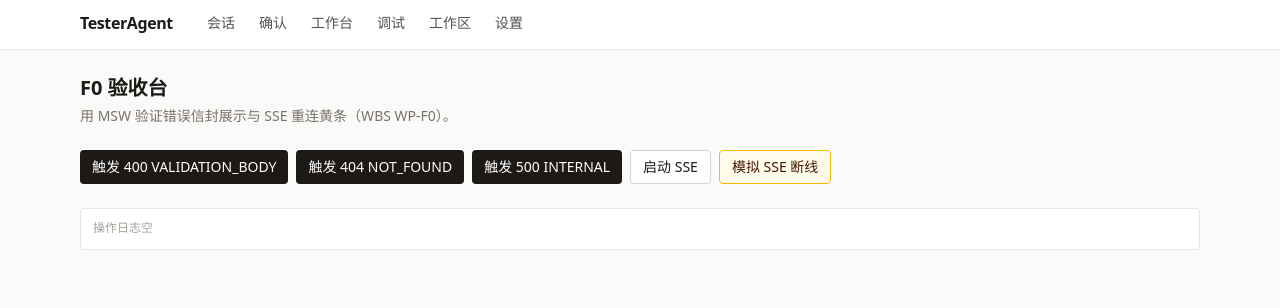
Test: F0 acceptance UI › shows error code in banner after 400
Click the button with test id "btn-400": (184, 167) [80,150,288,184]
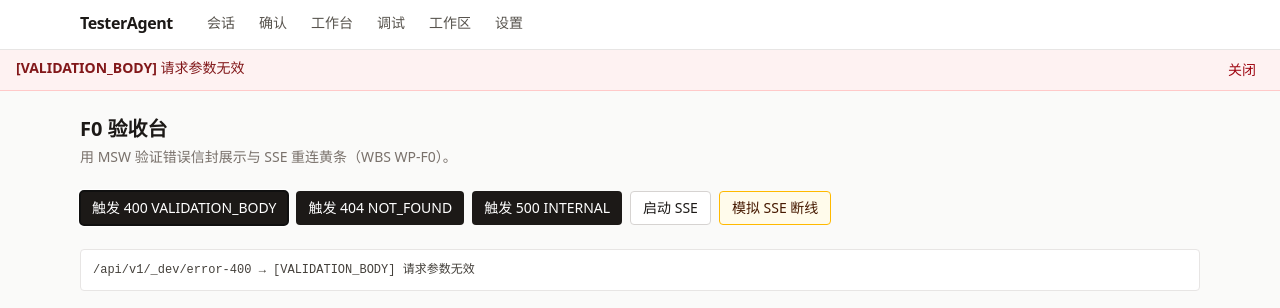
Now the message with test id "error-banner" shows "[VALIDATION_BODY]", box [21,58,152,77]
Now the message with test id "error-banner" shows "请求参数无效", box [161,58,245,77]
